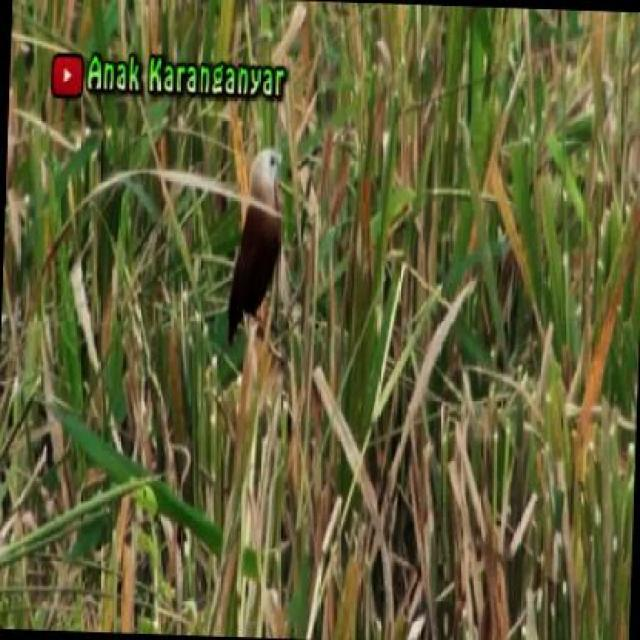Bird: (220, 146, 300, 354)
